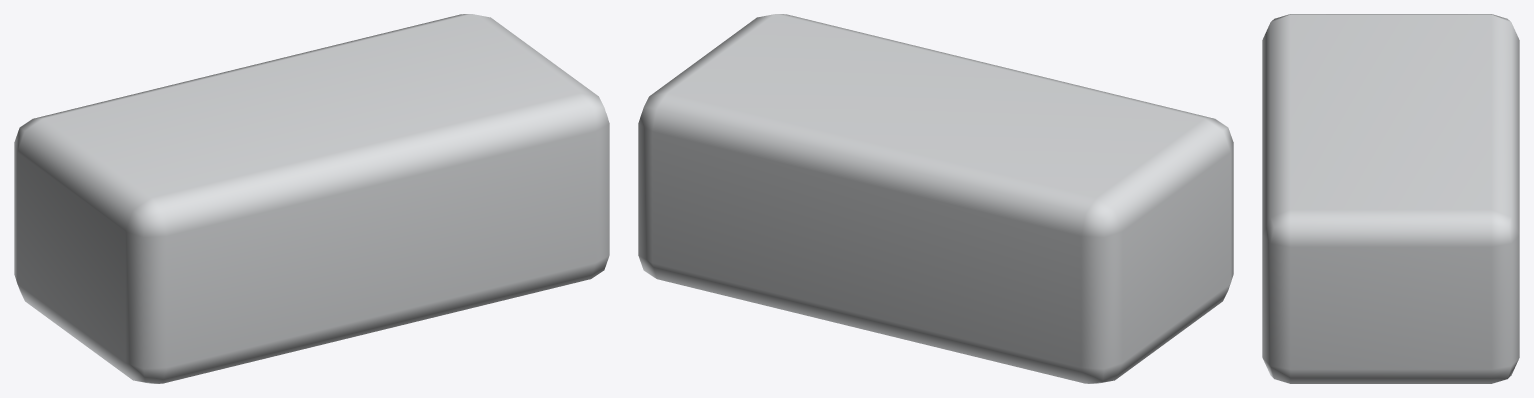
The model's file is SM_Cloud_02_B.fbx.
The picture shows the model from 3 angles, left to right: view 1: azimuth 30°, elevation 25°; view 2: azimuth 150°, elevation 25°; view 3: azimuth 270°, elevation 25°; orthographic projection. The views are drawn at different scales.
Parts seen in each view (by area): view 1: pCube790; view 2: pCube790; view 3: pCube790.
Boxes of the visible parts, <box> form: pCube790: <box>14,14,609,383</box>; pCube790: <box>638,14,1233,383</box>; pCube790: <box>1262,14,1519,383</box>.
Size of the model in its own units: 896 by 331 by 446.
